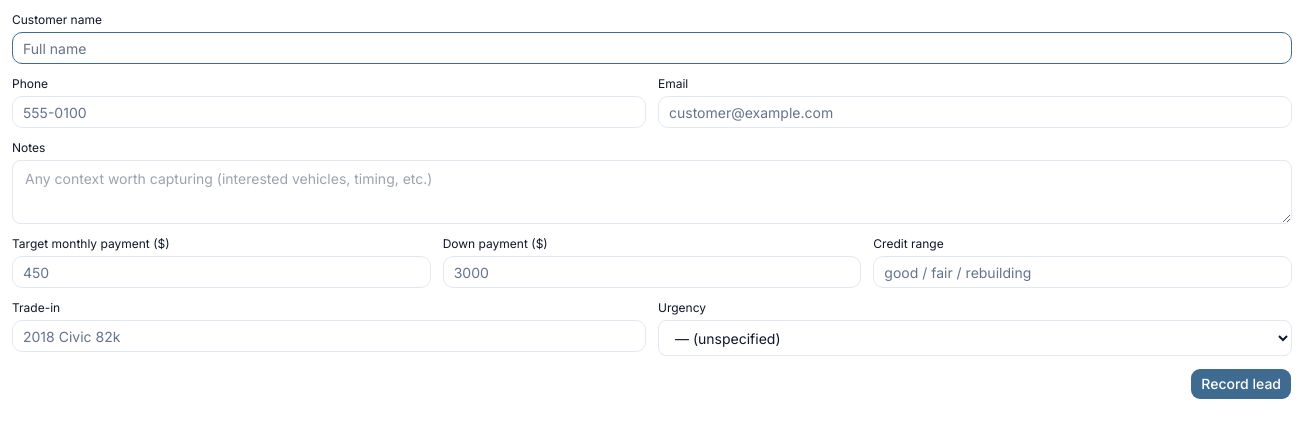
Test: LeadIntakeForm › surfaces a backend 400 as a human-readable error
In the field with test id "lead-intake-phone-name": coordinates (652, 48) [12,32,1292,64], type "Ellie"
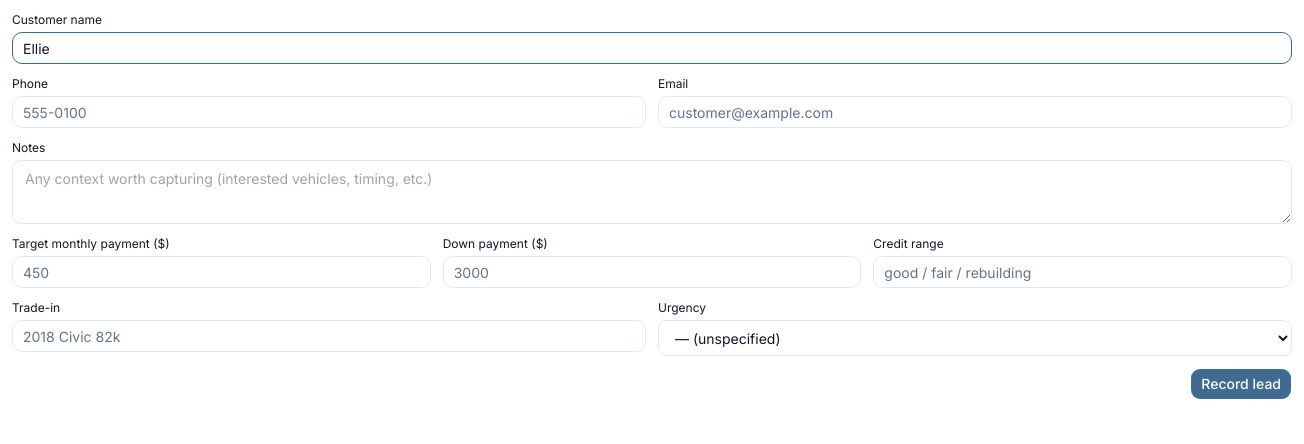
Click the button with test id "lead-intake-phone-submit": coordinates (1241, 384) [1190,368,1292,400]
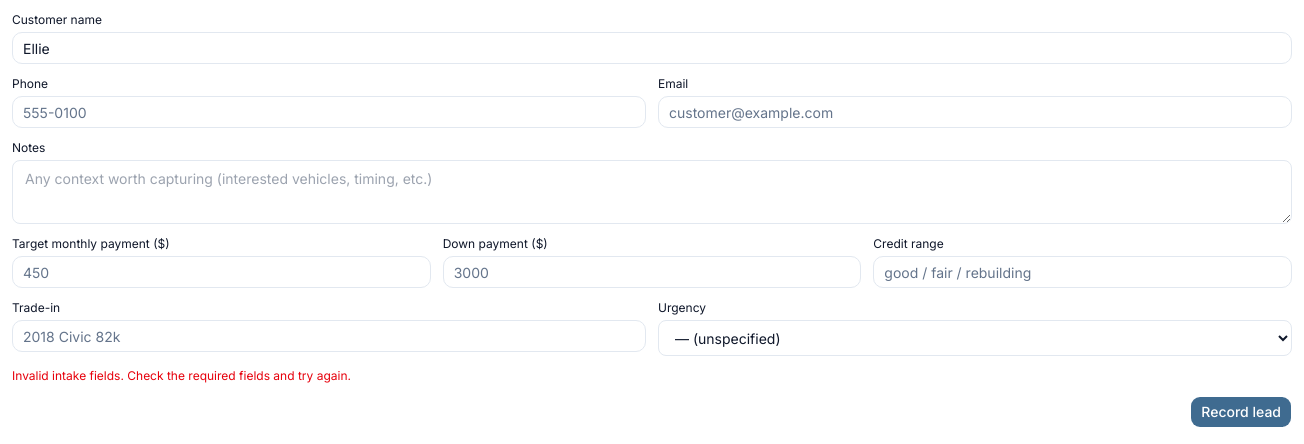
Check: the message with test id "lead-intake-phone-error" shows "Invalid intake fields", box [12,368,351,383]
